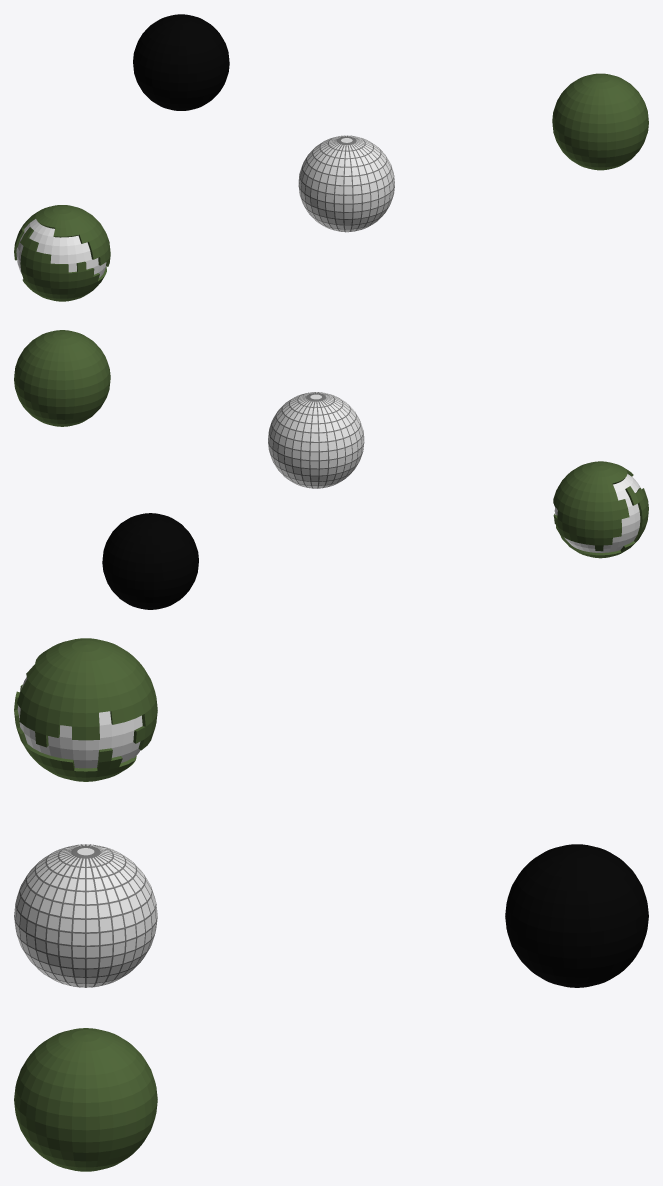
Rendered from Planets.fbx.
3 views of the same model, one above another, from view 1: azimuth 30°, elevation 25°; view 2: azimuth 150°, elevation 25°; view 3: azimuth 270°, elevation 25° (orthographic). The views are drawn at different scales.
Visible parts, largest first — view 1: Sphere, Sphere.002, Sphere.004, Sphere.001, Sphere.003; view 2: Sphere.002, Sphere, Sphere.004, Sphere.001, Sphere.003; view 3: Sphere, Sphere.002, Sphere.004, Sphere.001, Sphere.003.
Part boxes in pixels (<box>): Sphere: <box>552,73,648,170</box>; Sphere.002: <box>133,14,229,110</box>; Sphere.004: <box>298,135,394,232</box>; Sphere.001: <box>14,205,110,301</box>; Sphere.003: <box>16,219,106,277</box>; Sphere.002: <box>102,513,198,609</box>; Sphere: <box>14,330,110,426</box>; Sphere.004: <box>268,392,364,488</box>; Sphere.001: <box>553,461,648,558</box>; Sphere.003: <box>554,474,640,552</box>; Sphere: <box>14,1028,157,1171</box>; Sphere.002: <box>505,844,648,987</box>; Sphere.004: <box>14,844,157,987</box>; Sphere.001: <box>14,638,157,781</box>; Sphere.003: <box>17,677,142,768</box>.
Bounding box in the file's own units: 14824 × 2000 × 8829.
